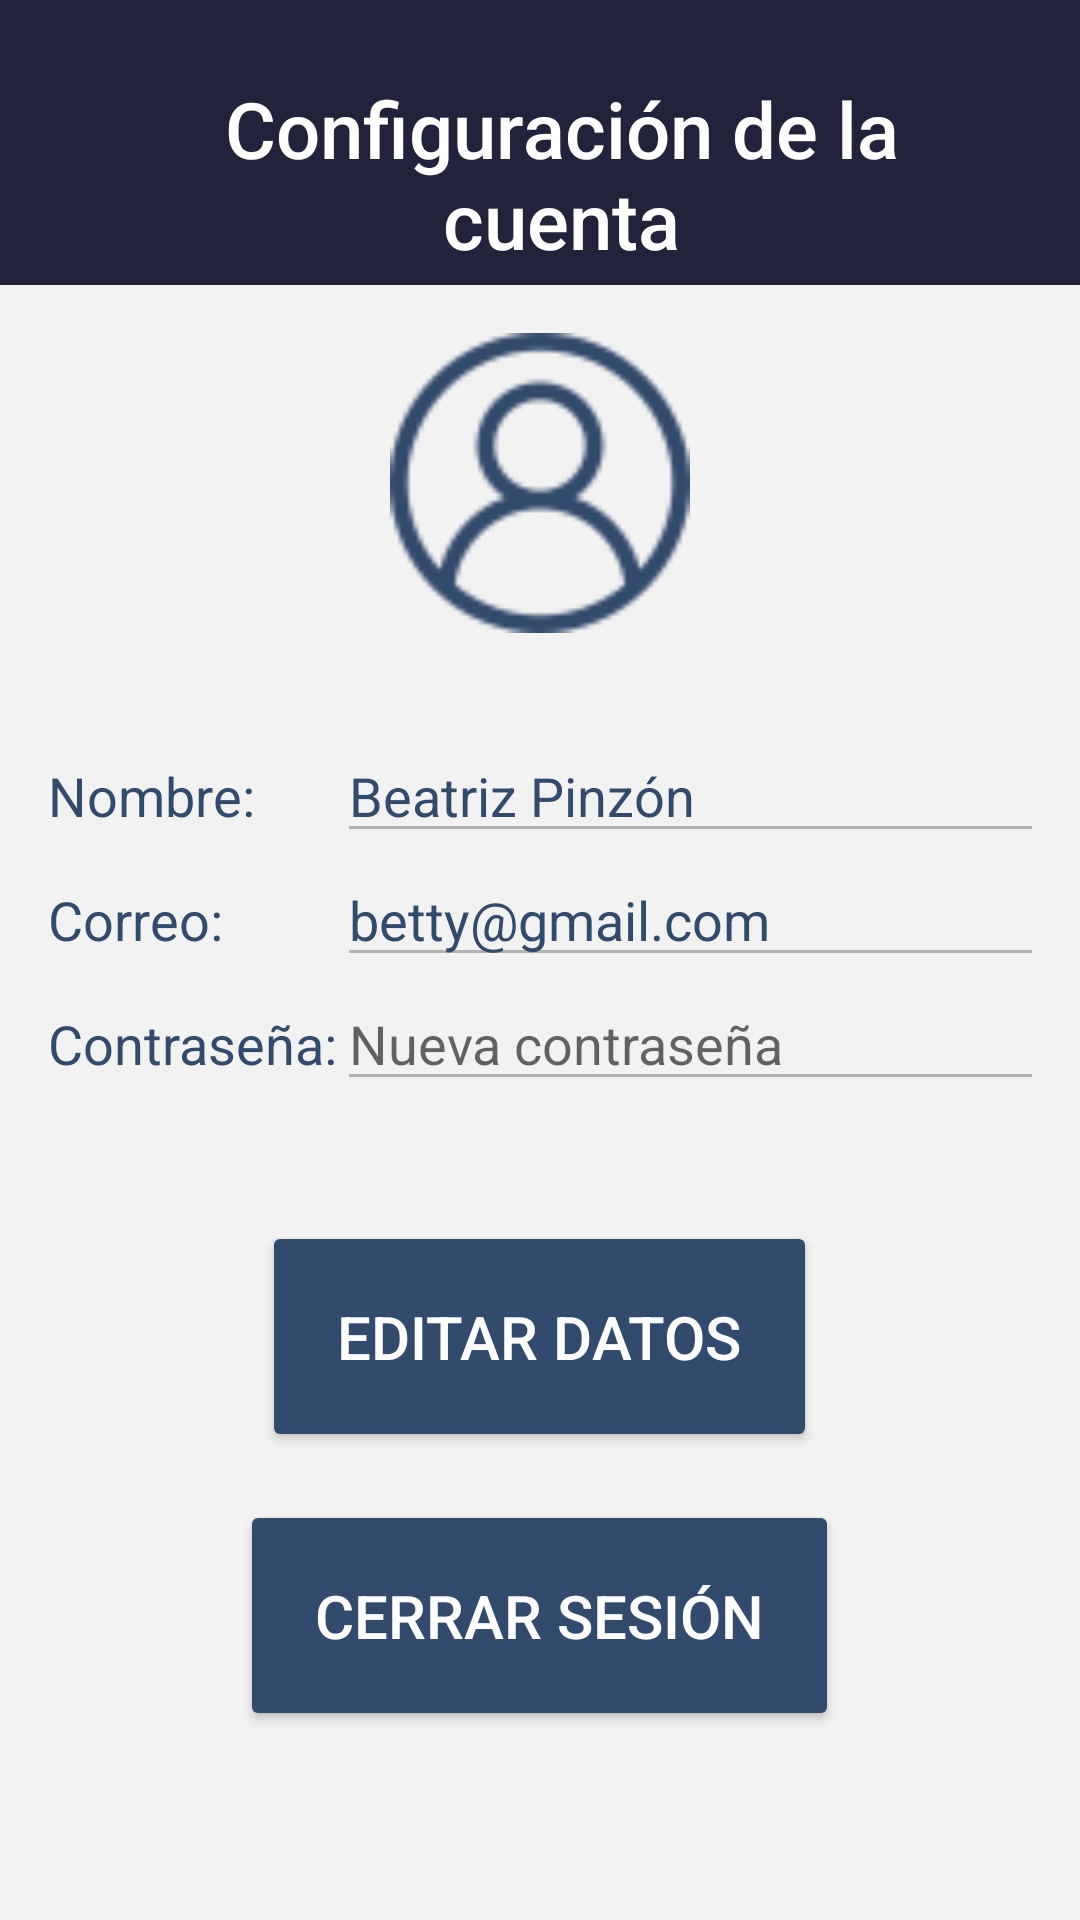

Icon bounding boxes for this 1080×1920 phone screenshot, format rect(x1, y1, x2, y2):
user: rect(390, 333, 690, 633)
